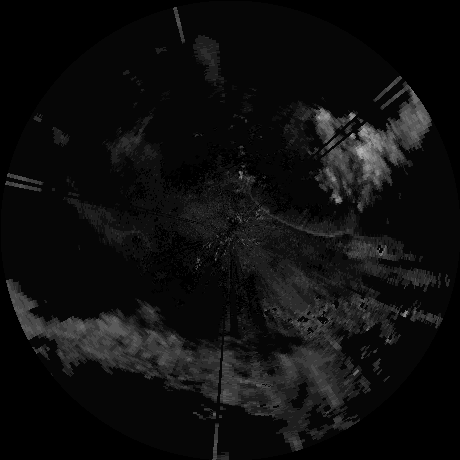frontgust: (250, 191, 352, 239)
